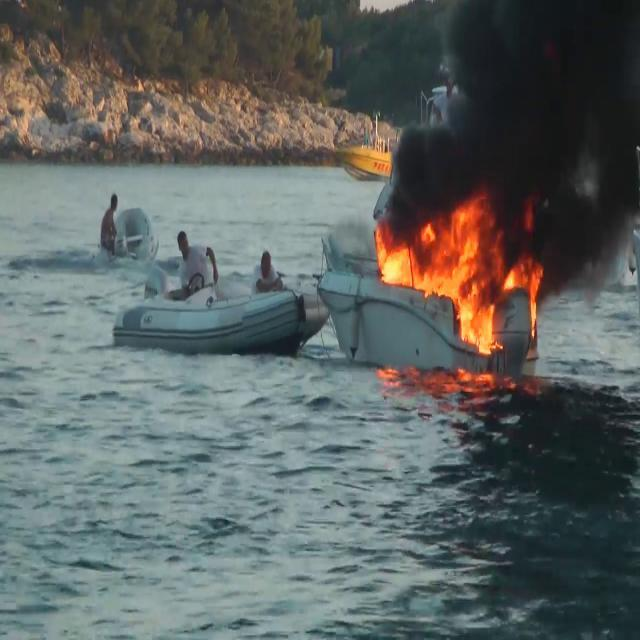Fire: (373, 195, 543, 361)
Smoke: (379, 0, 640, 244)
